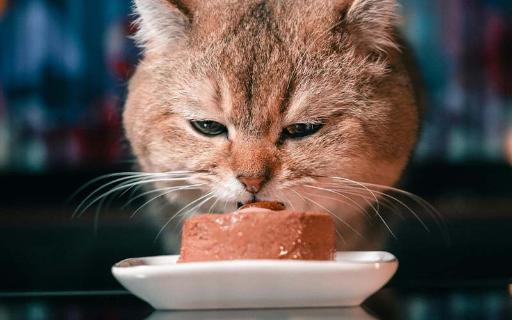cat_eating: (81, 0, 435, 310)
